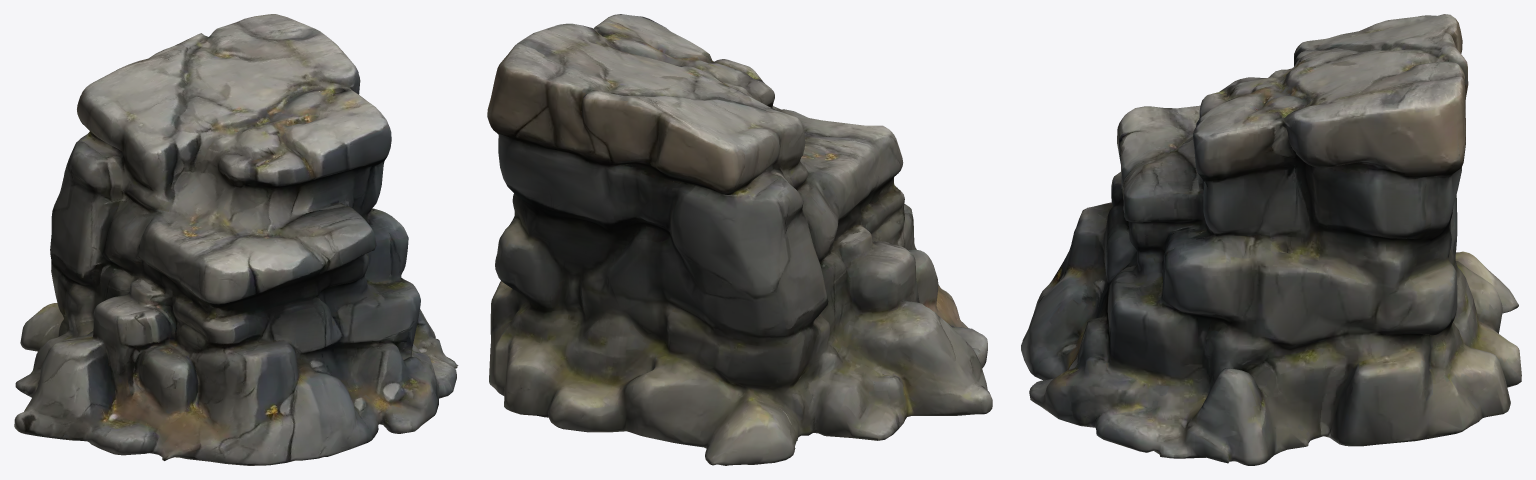
File: rock.glb
3 views of the same model, side by side, from view 1: azimuth 30°, elevation 25°; view 2: azimuth 150°, elevation 25°; view 3: azimuth 270°, elevation 25° (orthographic). The views are drawn at different scales.
Size of the model in its own units: 1.99 by 1.29 by 1.77.
1 material, 1 textured.
